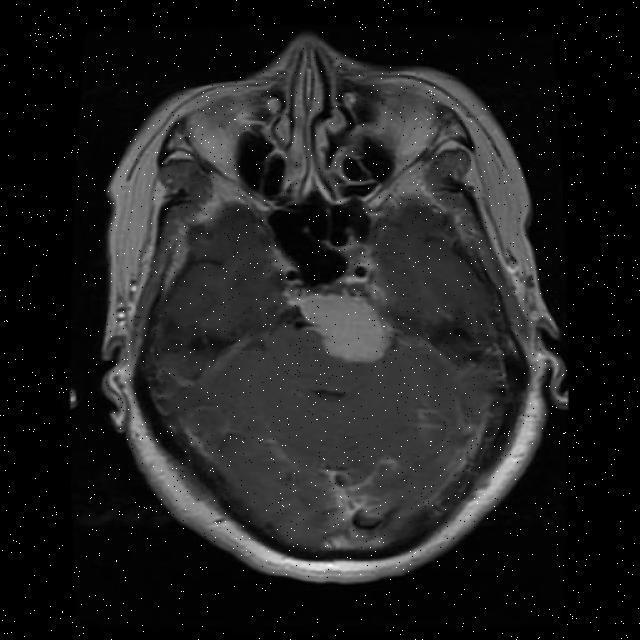Meningioma: (299, 293, 391, 362)
